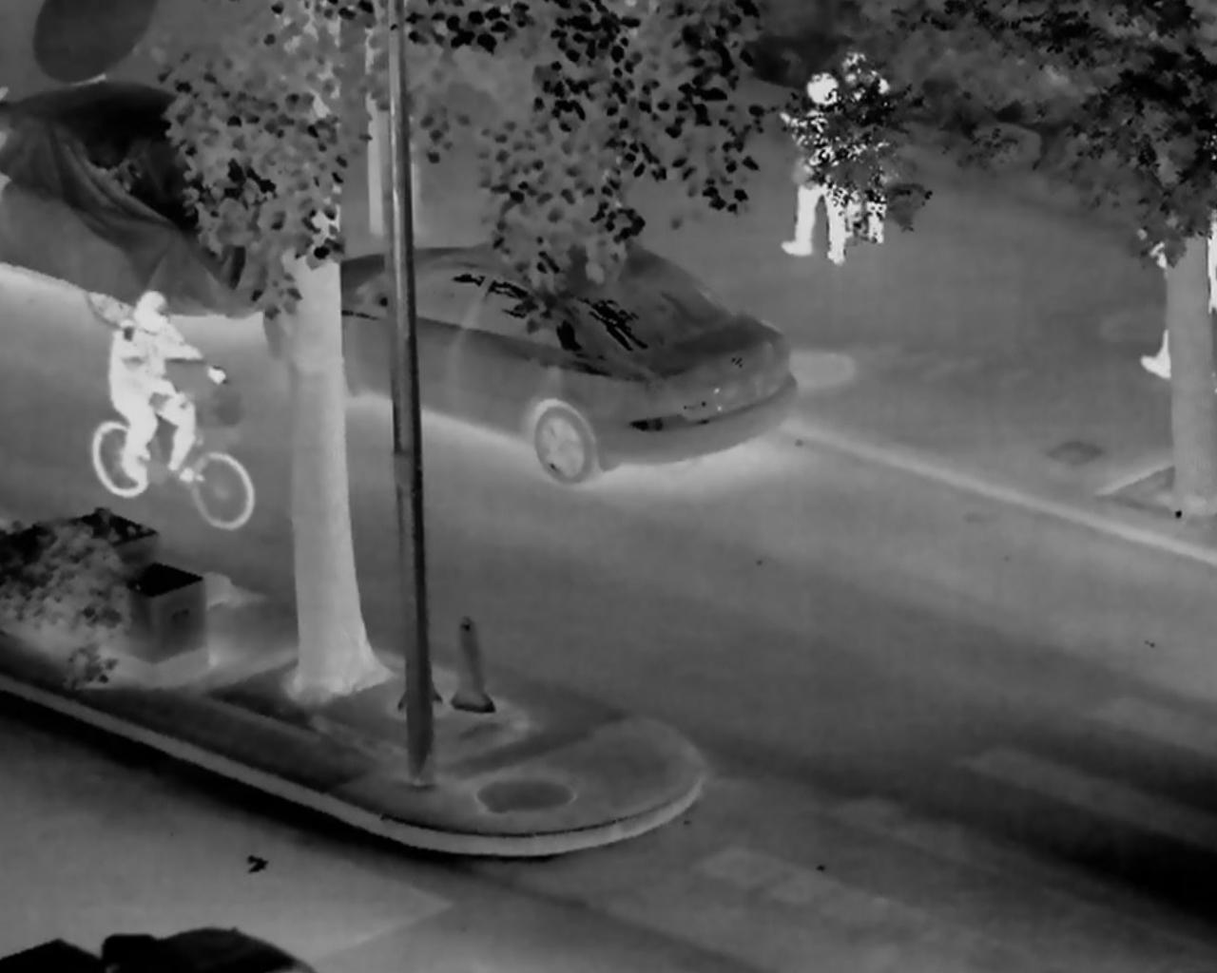person: (105, 290, 224, 486), (821, 47, 892, 246), (776, 70, 847, 264)
